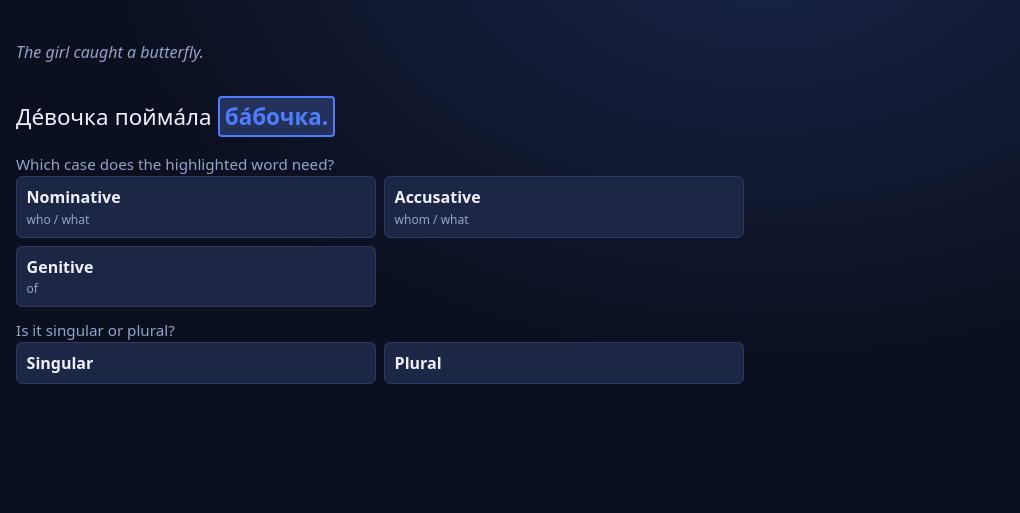
Scenario: PhraseFixExercise › names the wrong number when only the number pick missed
Step 1. Click the button with class "case-btn" showing "Accusative whom / what" → click(438, 197), box 384,176 -> 744,238
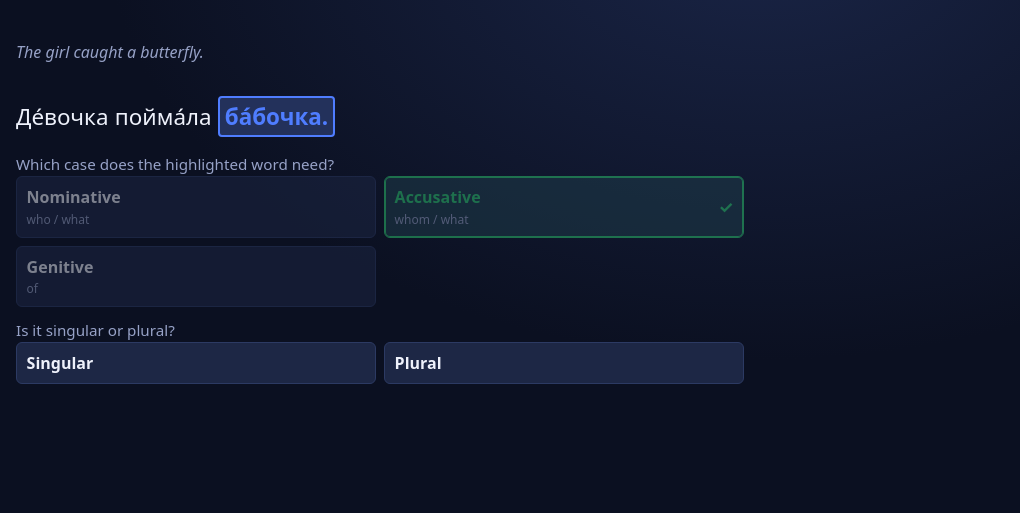
Step 2. Click the button with class "case-btn" showing "Plural" → click(418, 363), box 384,342 -> 744,384
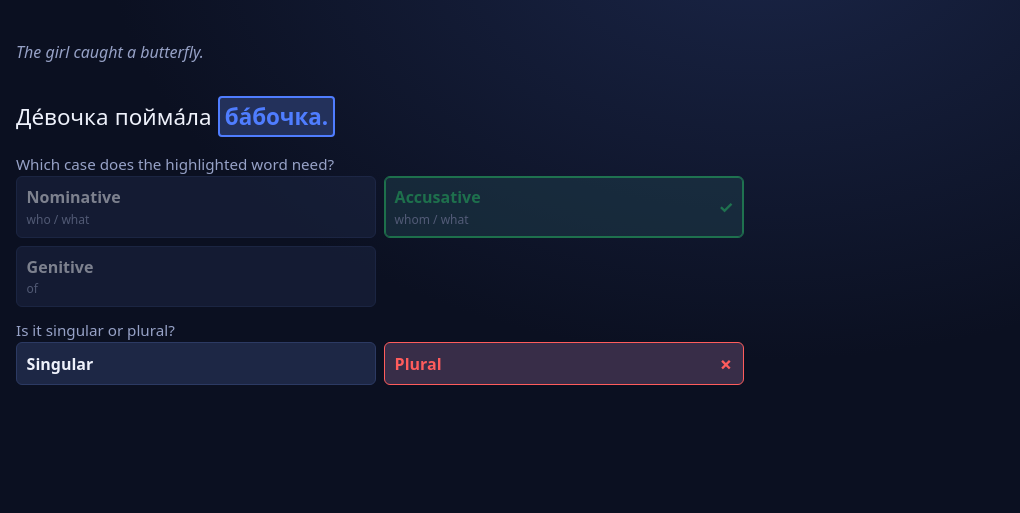
Step 3. Click the button with class "case-btn" showing "Singular" → click(60, 364), box 16,342 -> 376,385
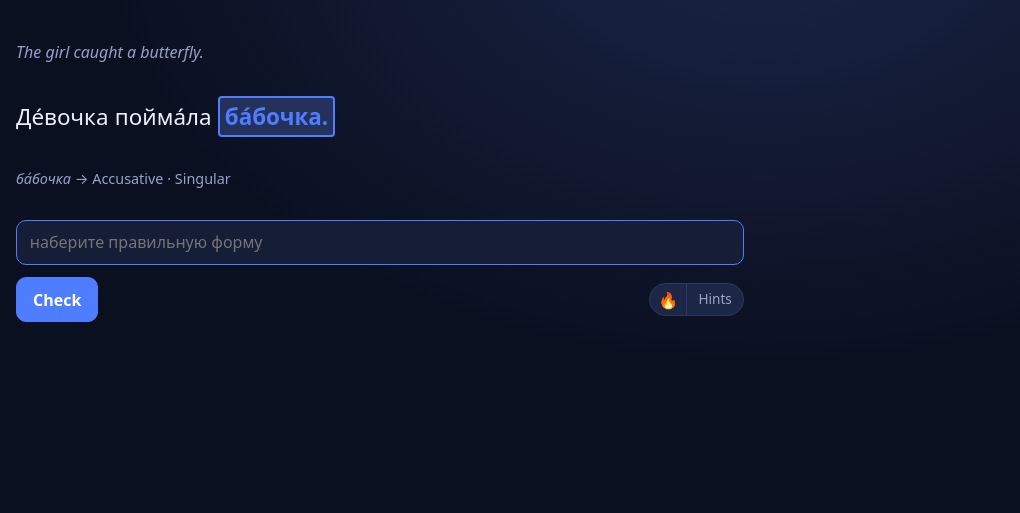
Step 4. Type "бабочку" into the field with placeholder "наберите правильную форму" → (380, 242), box 16,220 -> 744,265
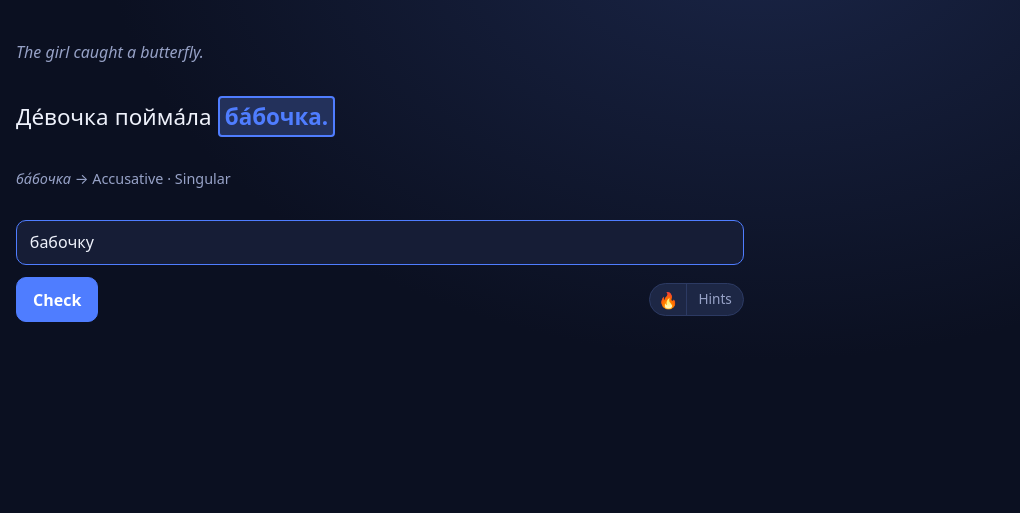
Step 5. Submit the form, box 16,220 -> 744,322
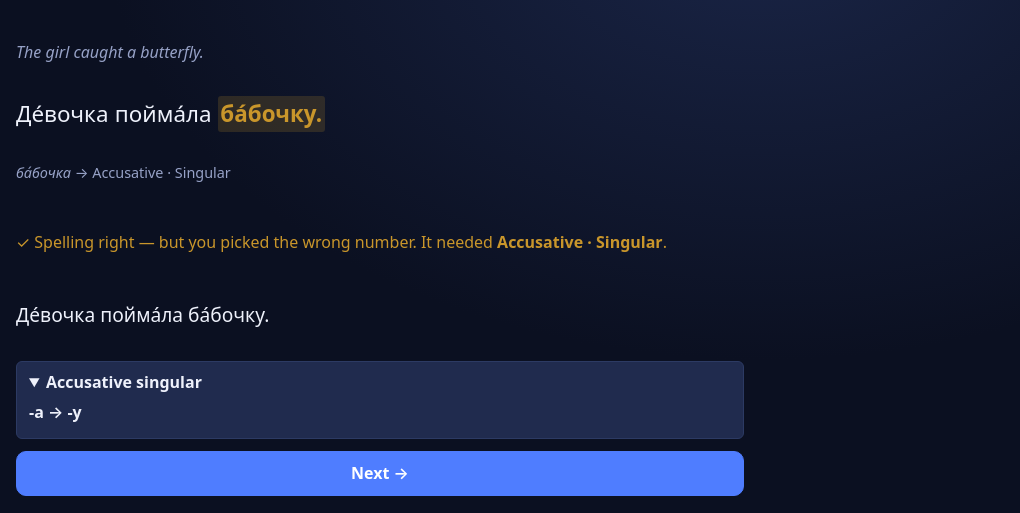
Result: the element with class "warn" shows "wrong number" at 16,231 -> 497,253
